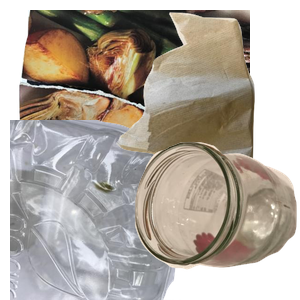glass: (132, 139, 300, 300)
paper: (16, 10, 256, 172)
plastic: (10, 120, 197, 300)
trash: (114, 10, 300, 189)
